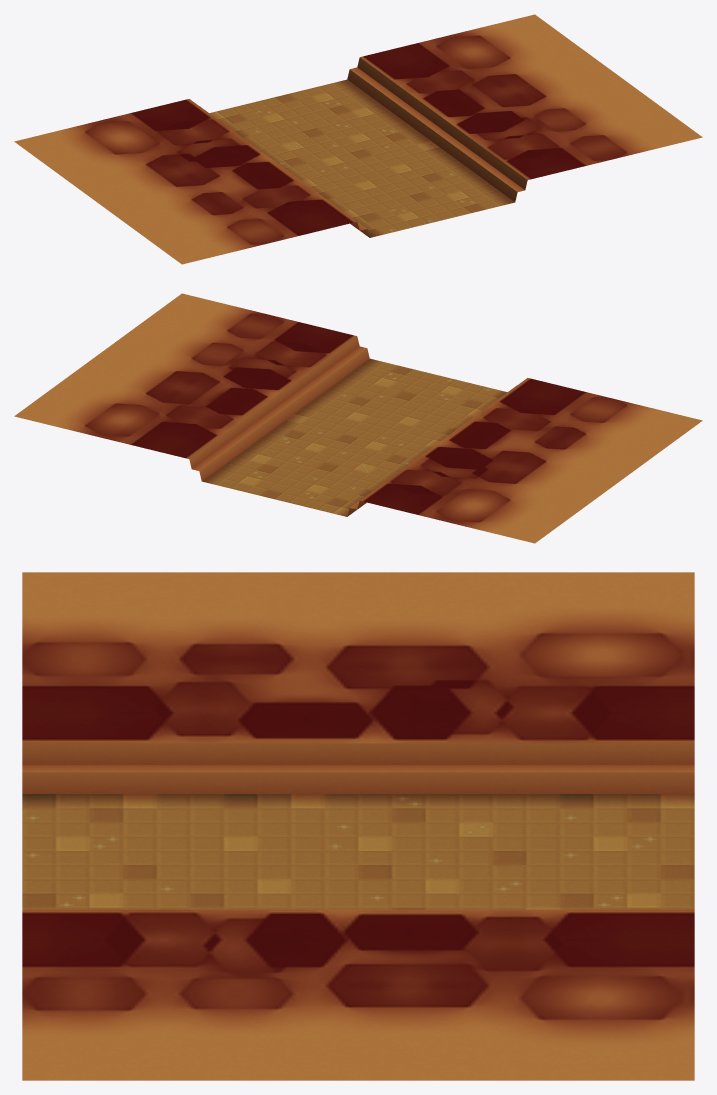
Rendered from desert_ground.FBX.
3 renders of one model, top to bottom at view 1: azimuth 30°, elevation 25°; view 2: azimuth 150°, elevation 25°; view 3: azimuth 270°, elevation 25°, orthographic. The views are drawn at different scales.
Parts seen in each view (by area): view 1: desert_ground; view 2: desert_ground; view 3: desert_ground.
Part boxes in pixels (bbox=[...]): desert_ground: bbox=[14, 14, 702, 264]; desert_ground: bbox=[14, 293, 702, 543]; desert_ground: bbox=[22, 572, 694, 1080].
Size of the model in its own units: 35806 by 1268 by 20000.
